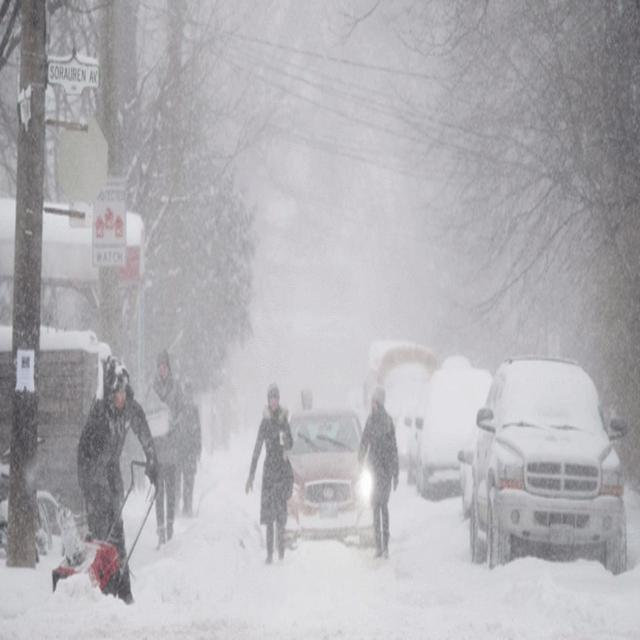Car: (287, 419, 366, 532)
Truck: (474, 356, 625, 560)
